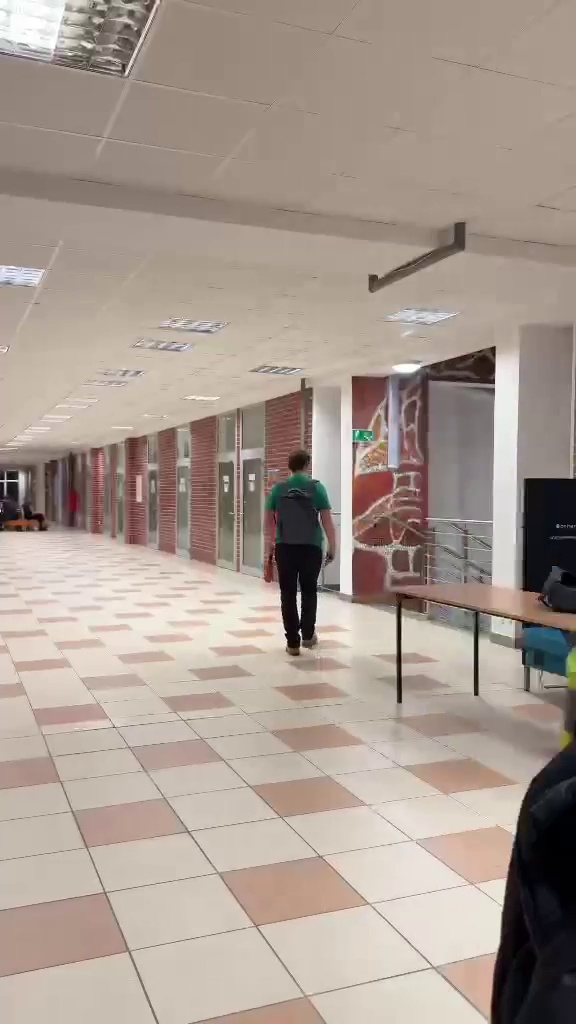no vest: (257, 440, 347, 645)
